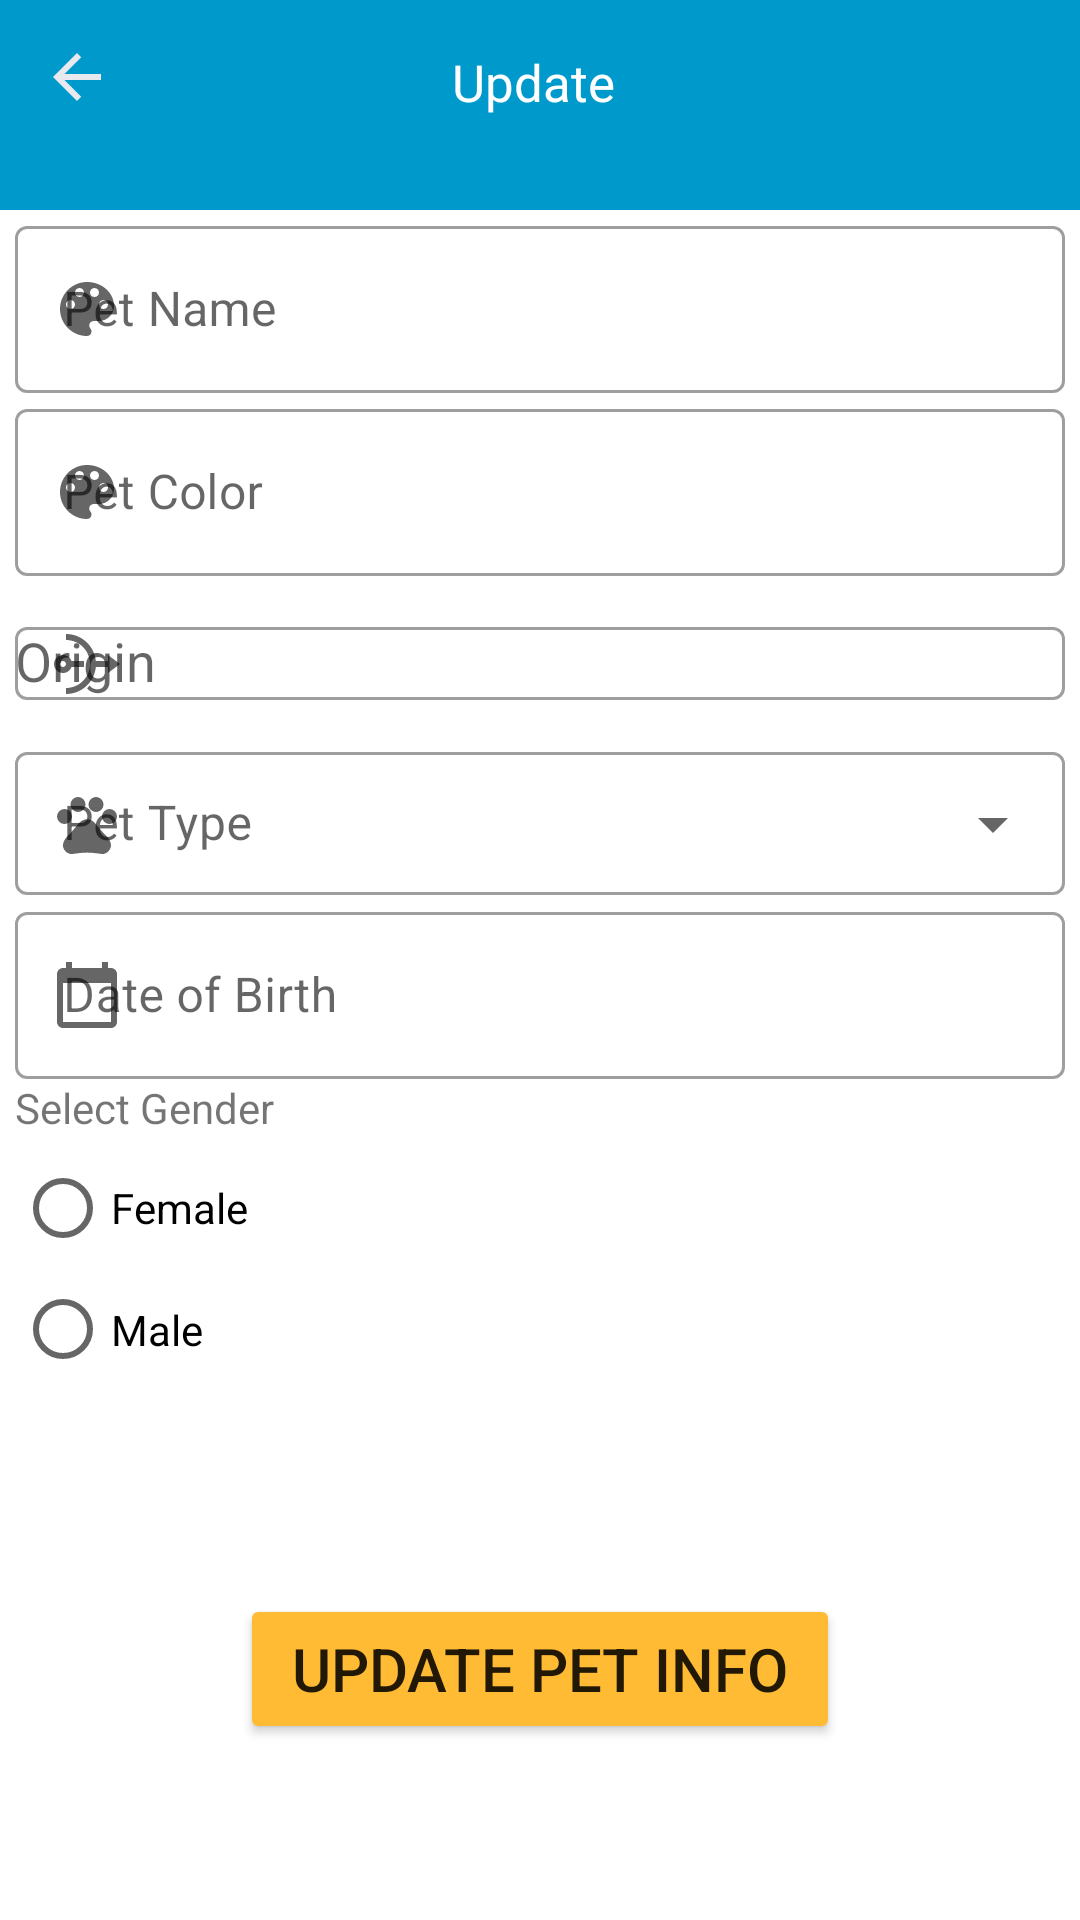

Locate icon controls on the screen. Image size 1080*1920, boxes as (x1, y1, x2, y2).
arrow back: (53, 53, 101, 101)
